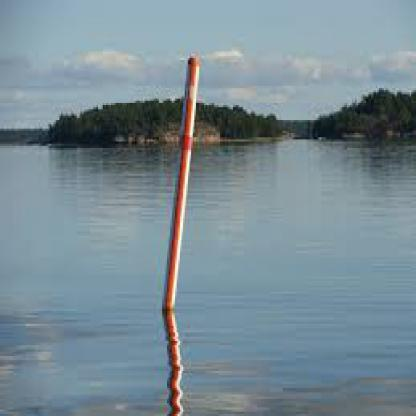buoy: (143, 41, 210, 414), (153, 43, 207, 311)
